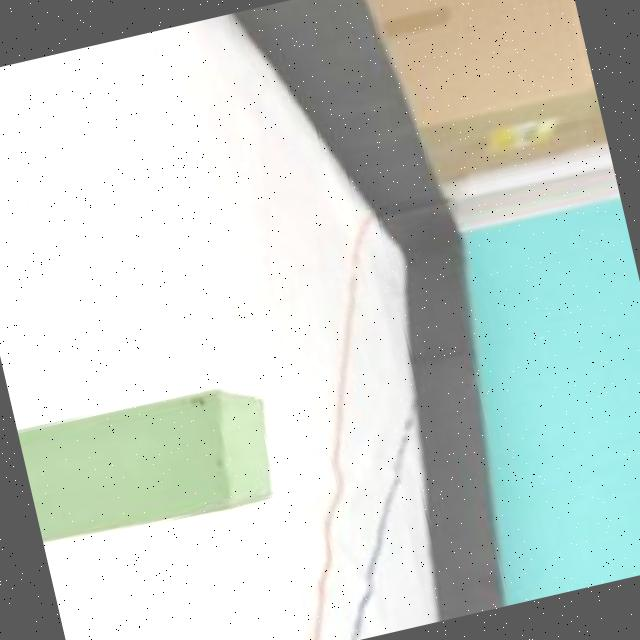greenbox: (17, 374, 290, 552)
